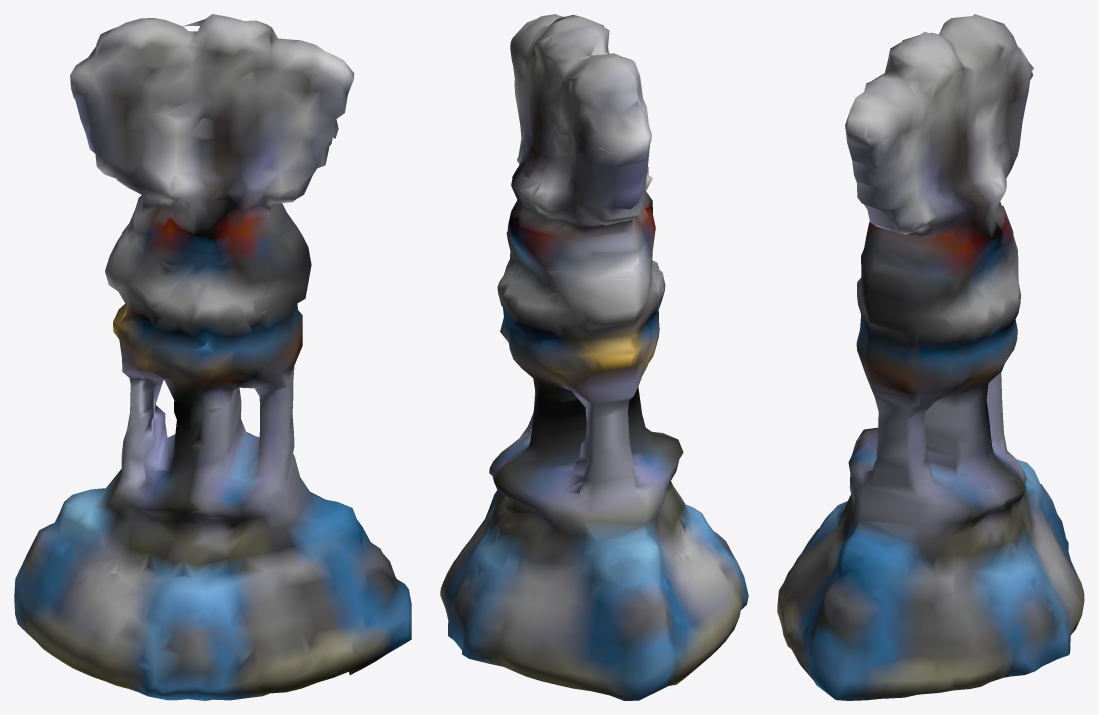
The model's file is allied_prism_tower.glb.
The picture shows the model from 3 angles, left to right: view 1: azimuth 30°, elevation 25°; view 2: azimuth 150°, elevation 25°; view 3: azimuth 270°, elevation 25°; orthographic projection. The views are drawn at different scales.
Parts seen in each view (by area): view 1: allied_prism_tower; view 2: allied_prism_tower; view 3: allied_prism_tower.
Boxes of the visible parts, x1,y1,x2,y2 form: allied_prism_tower: (14, 14, 411, 700); allied_prism_tower: (440, 14, 748, 700); allied_prism_tower: (777, 14, 1084, 700).
Size of the model in its own units: 0.801 by 1.62 by 0.7486.
